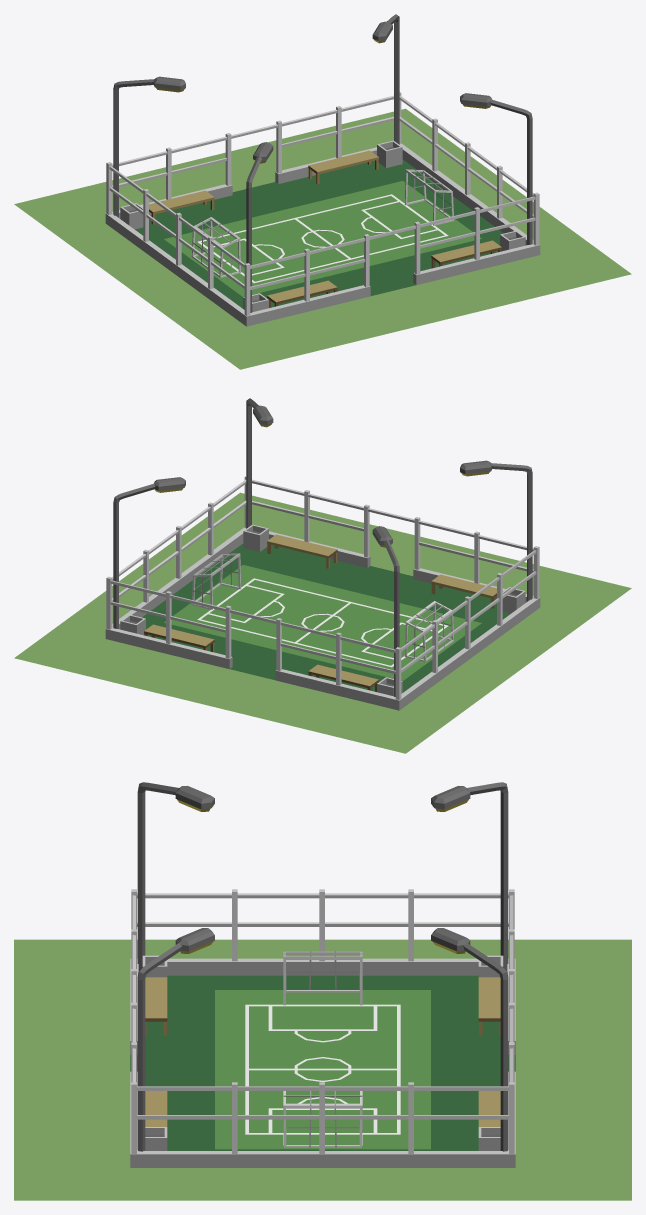
File: landscape_entertainment_008.fbx
3 views of the same model, one above another, from view 1: azimuth 30°, elevation 25°; view 2: azimuth 150°, elevation 25°; view 3: azimuth 270°, elevation 25° (orthographic). The views are drawn at different scales.
Visible parts, largest first — view 1: landscape_entertainment_008; view 2: landscape_entertainment_008; view 3: landscape_entertainment_008.
Boxes of the visible parts, x1=… form: landscape_entertainment_008: x1=14, y1=14, x2=631, y2=369; landscape_entertainment_008: x1=14, y1=398, x2=631, y2=753; landscape_entertainment_008: x1=14, y1=782, x2=631, y2=1200.
Size of the model in its own units: 1600 by 616 by 1600.
